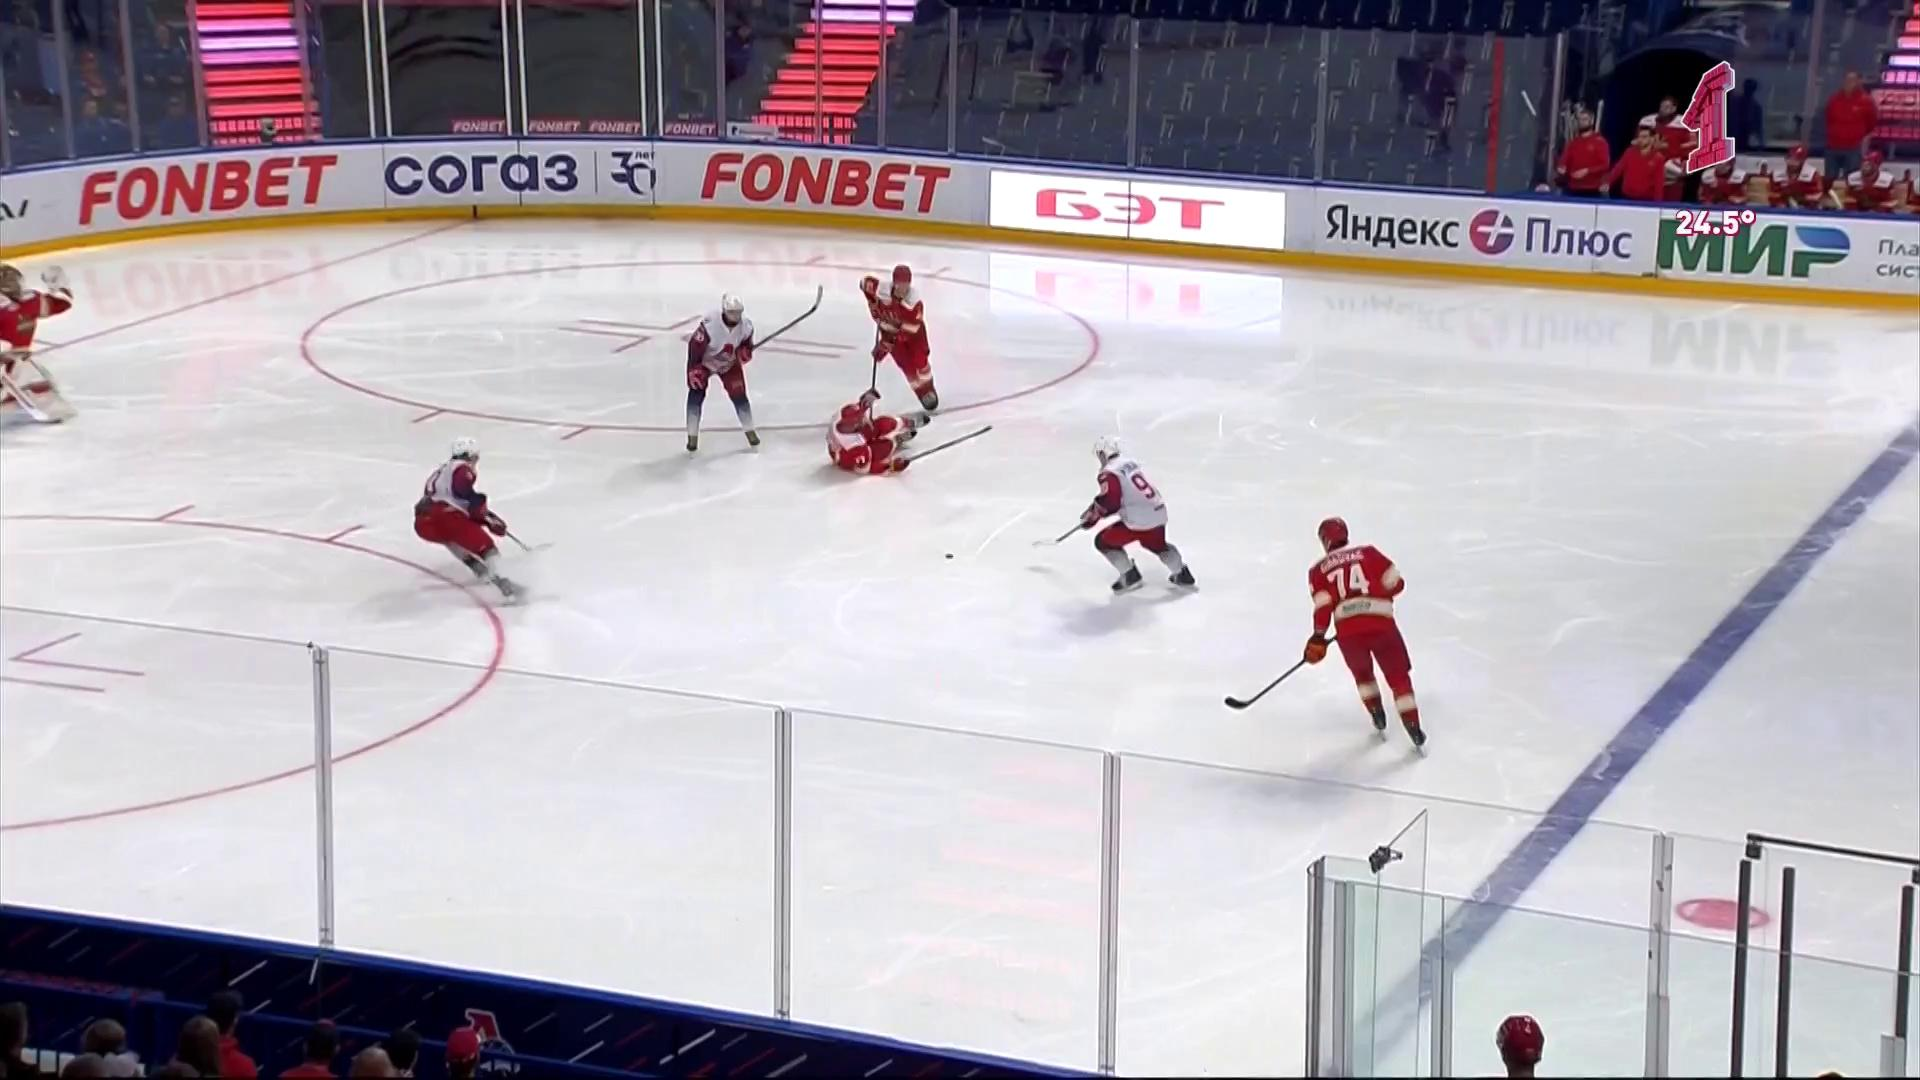ball: (944, 553, 953, 560)
